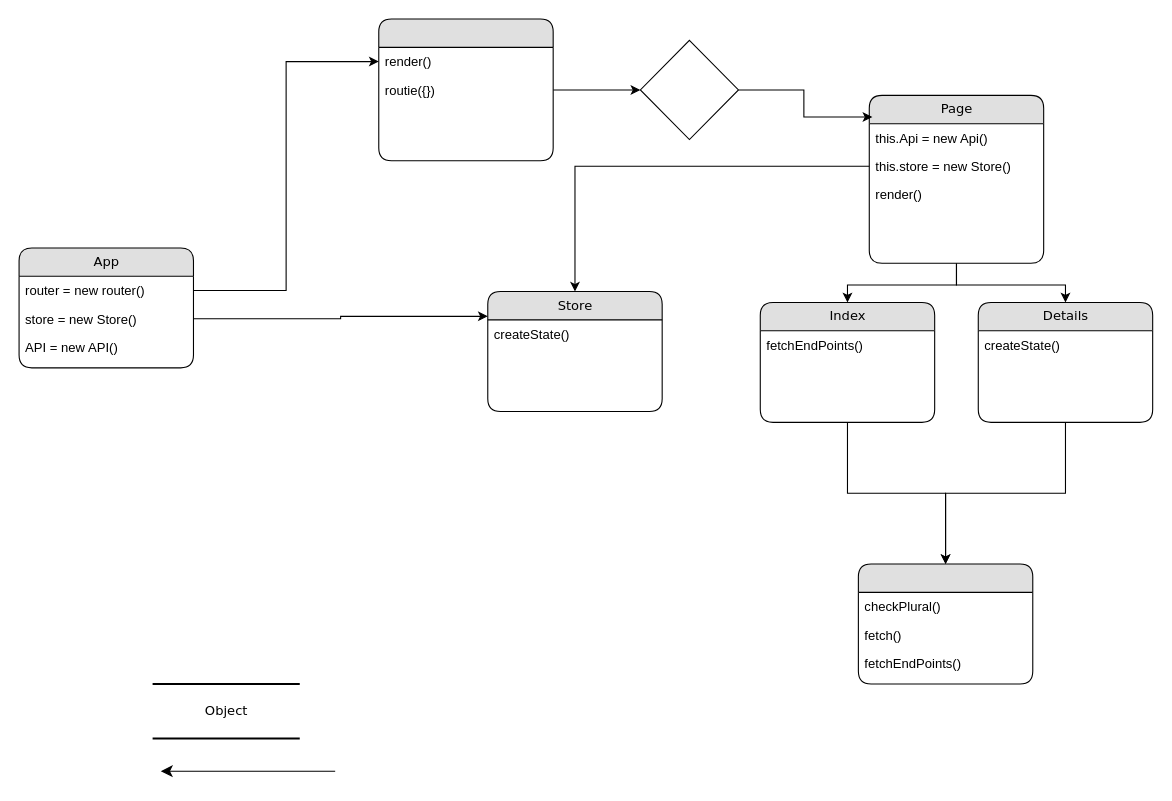
Image size: 1172x801. Some labels were removed from this diagram. Here are the shapes that lost their labels. From the top down, the box of each, then its label:
(378, 18, 553, 161): Router
(639, 39, 738, 140): HashChange => render()
(857, 563, 1033, 684): Api
